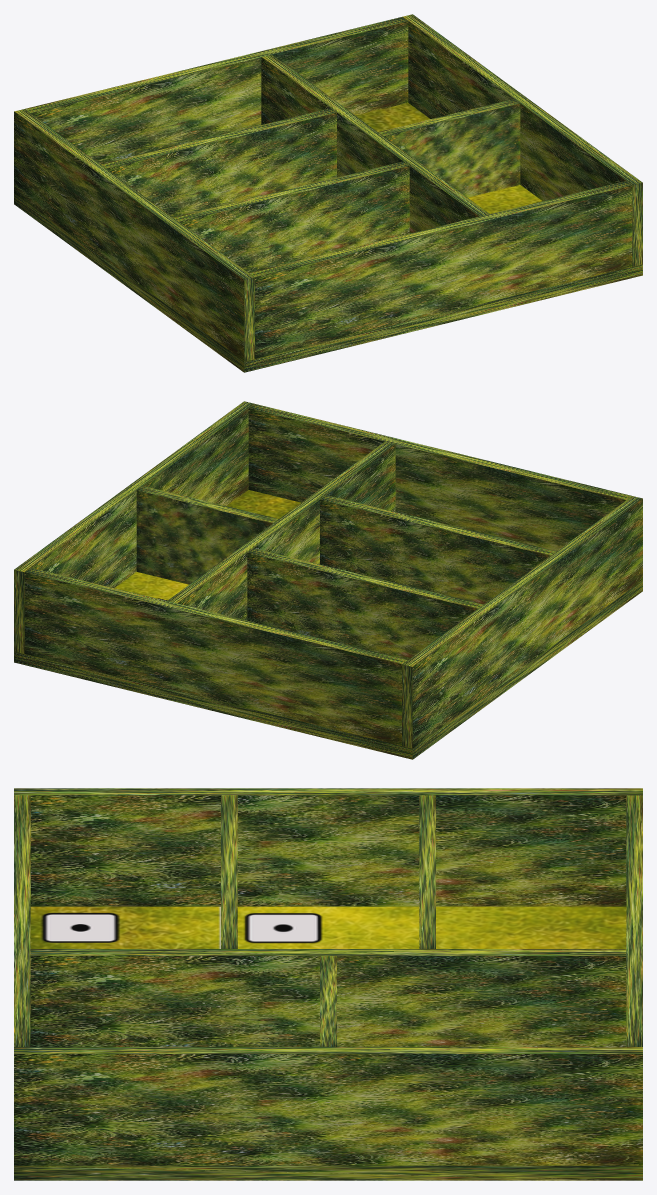
File: Token_Tray.obj
The picture shows the model from 3 angles, top to bottom: view 1: azimuth 30°, elevation 25°; view 2: azimuth 150°, elevation 25°; view 3: azimuth 270°, elevation 25°; orthographic projection. The views are drawn at different scales.
Parts seen in each view (by area): view 1: Leaf_And_Let_Die_Token_Tray; view 2: Leaf_And_Let_Die_Token_Tray; view 3: Leaf_And_Let_Die_Token_Tray.
Boxes of the visible parts, <box> form: Leaf_And_Let_Die_Token_Tray: <box>14,14,642,372</box>; Leaf_And_Let_Die_Token_Tray: <box>14,401,642,759</box>; Leaf_And_Let_Die_Token_Tray: <box>14,788,642,1180</box>.
Size of the model in its own units: 6.57 by 1.46 by 6.57.
1 material, 1 textured.
